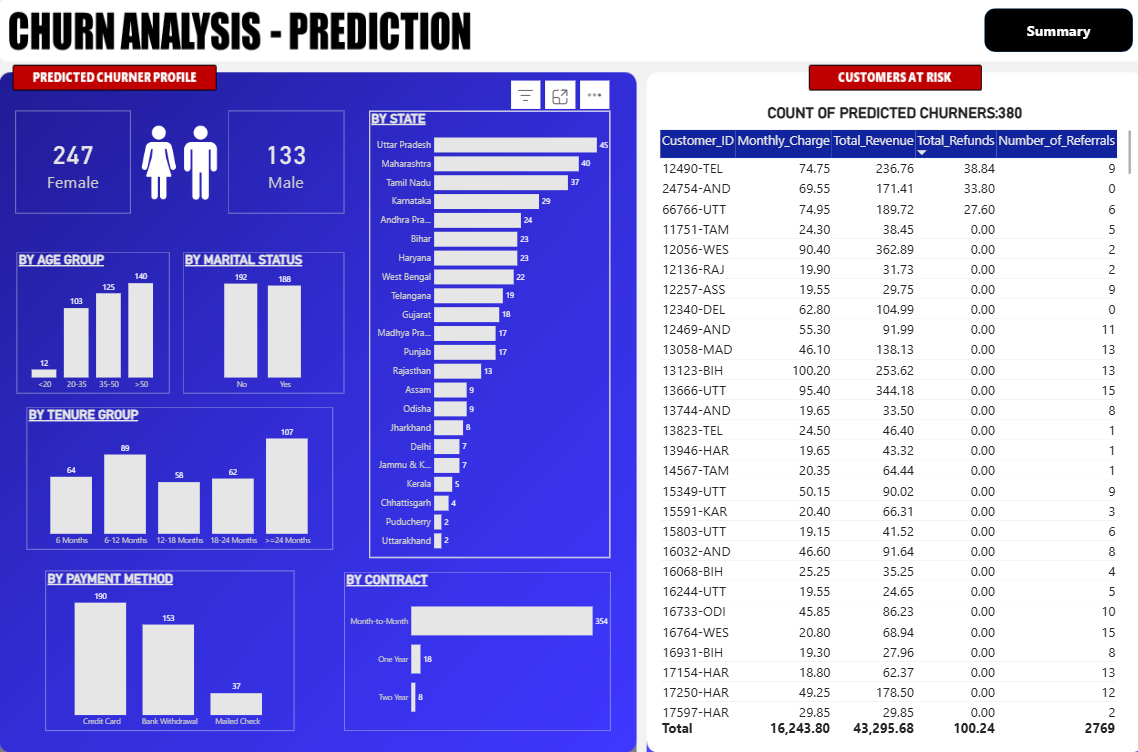

The dashboard page shown, as its layout file describes it:
{"tool":"powerbi","page":{"name":"Churn Prediction","canvas":[3300,2200],"ordinal":2},"visuals":[{"type":"tableEx","fields":{"Values":["Predictions.Customer_ID","Sum(Predictions.Monthly_Charge)","Sum(Predictions.Total_Revenue)","Sum(Predictions.Total_Refunds)","Sum(Predictions.Number_of_Referrals)"]},"box":[1896.2,399.8,1344.3,1730],"z":0},{"type":"card","fields":{"Values":["tbl_measures.Title Predicted Churner"]},"box":[2044.8,300.7,1043.6,99.1],"z":1000},{"type":"card","fields":{"Values":["tbl_measures.Count Predicted Churner"]},"box":[77.8,350.2,325.5,290.1],"z":2000},{"type":"card","fields":{"Values":["tbl_measures.Count Predicted Churner"]},"box":[679.2,350.2,329,290.1],"z":3000},{"type":"clusteredColumnChart","title":"BY AGE GROUP","fields":{"Category":["mapping_ageGrp.Age Group"],"Y":["CountNonNull(Predictions.Customer_ID)"]},"box":[81.4,750,431.6,399.8],"z":4000},{"type":"clusteredColumnChart","title":"BY MARITAL STATUS","fields":{"Y":["CountNonNull(Predictions.Customer_ID)"],"Category":["Predictions.Married"]},"box":[551.9,750,456.4,399.8],"z":5000},{"type":"clusteredColumnChart","title":"BY TENURE GROUP","fields":{"Y":["CountNonNull(Predictions.Customer_ID)"],"Category":["mapping_tenureGrp.Tenure Group"]},"box":[109.7,1188.7,866.7,403.3],"z":6000},{"type":"clusteredBarChart","title":"BY CONTRACT","fields":{"Category":["Predictions.Contract"],"Y":["CountNonNull(Predictions.Customer_ID)"]},"box":[1008.3,1655.7,753.5,449.3],"z":7000},{"type":"clusteredColumnChart","title":"BY PAYMENT METHOD","fields":{"Y":["CountNonNull(Predictions.Customer_ID)"],"Category":["Predictions.Payment_Method"]},"box":[162.7,1652.1,704,452.8],"z":8000},{"type":"clusteredBarChart","title":"BY STATE","fields":{"Y":["CountNonNull(Predictions.Customer_ID)"],"Category":["Predictions.State"]},"box":[1079,350.2,682.8,1266.5],"z":9000},{"type":"image","box":[403.3,350.2,275.9,290.1],"z":10000},{"type":"shape","box":[2819.6,60.1,421,123.8],"z":11000}]}

Visuals, with their boxes in screenshot pixels (x1, y1, x2, y2), scaled from the page's 3300x2200 canvas onto the 1138x752 screenshot:
tableEx - Predictions.Customer_ID x Sum(Predictions.Monthly_Charge): 654/137/1117/728
card - tbl_measures.Title Predicted Churner: 705/103/1065/137
card - tbl_measures.Count Predicted Churner: 27/120/139/219
card - tbl_measures.Count Predicted Churner: 234/120/348/219
"BY AGE GROUP" clusteredColumnChart: 28/256/177/393
"BY MARITAL STATUS" clusteredColumnChart: 190/256/348/393
"BY TENURE GROUP" clusteredColumnChart: 38/406/337/544
"BY CONTRACT" clusteredBarChart: 348/566/608/720
"BY PAYMENT METHOD" clusteredColumnChart: 56/565/299/719
"BY STATE" clusteredBarChart: 372/120/608/553
image: 139/120/234/219
shape: 972/21/1118/63
